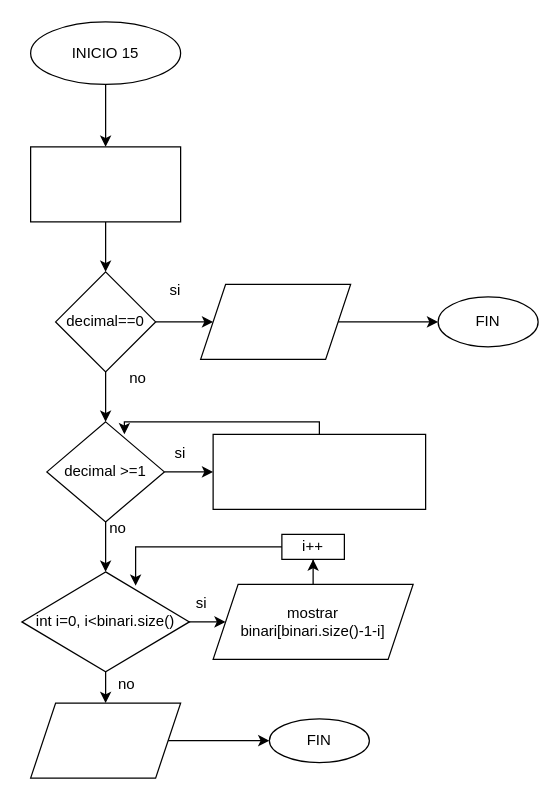
The diagram is 560 pixels wide and 800 high, and some of its shapes have lost their labels. Here are the shapes that lost their labels. From the top down, the centre of each, then its label:
At (x=105, y=184): "int decimal,int resto=0,string binari".
At (x=275, y=321): "mostrar 0".
At (x=319, y=471): "resto=decimal%2 decimal=decimal/2 binari += to_string(resto)".
At (x=105, y=740): "salto de linea".
